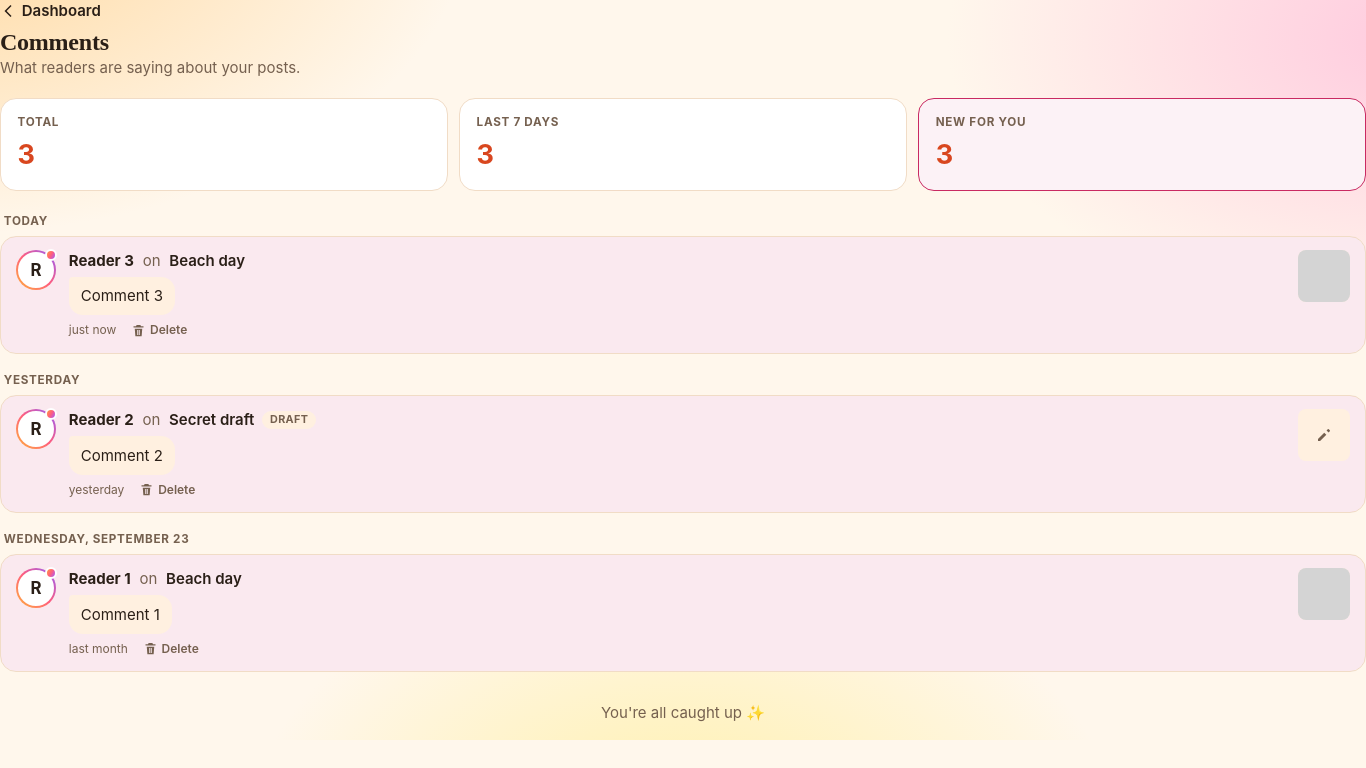
Test case: AdminCommentsPage › deletes a comment after confirming
The width and height of the screenshot is (1366, 768).
Expected: the text "Comment 3" is shown, [69,277,175,316]
Click the button named "Delete comment by Reader 3".
click(159, 330)  # box [131,321,187,339]
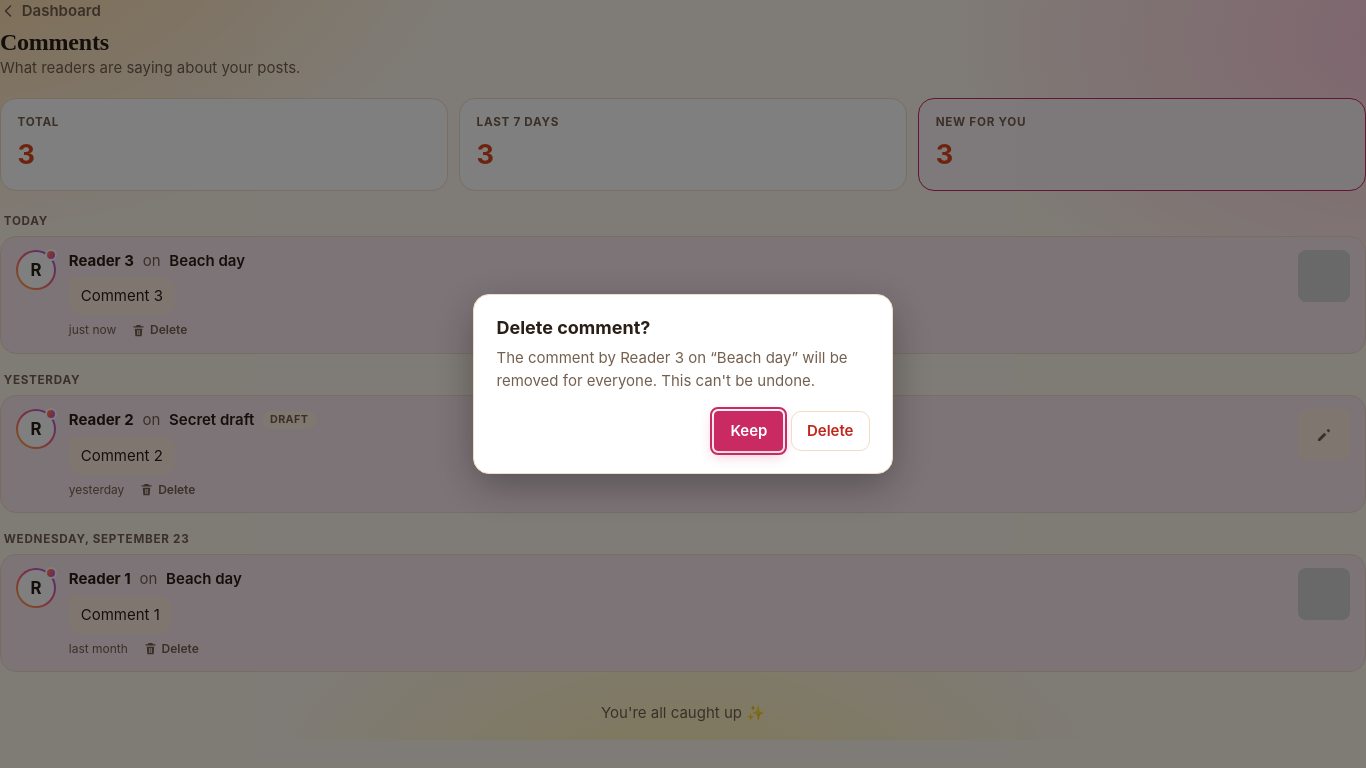
Click the button "Delete".
click(830, 431)  # box [791,411,870,451]
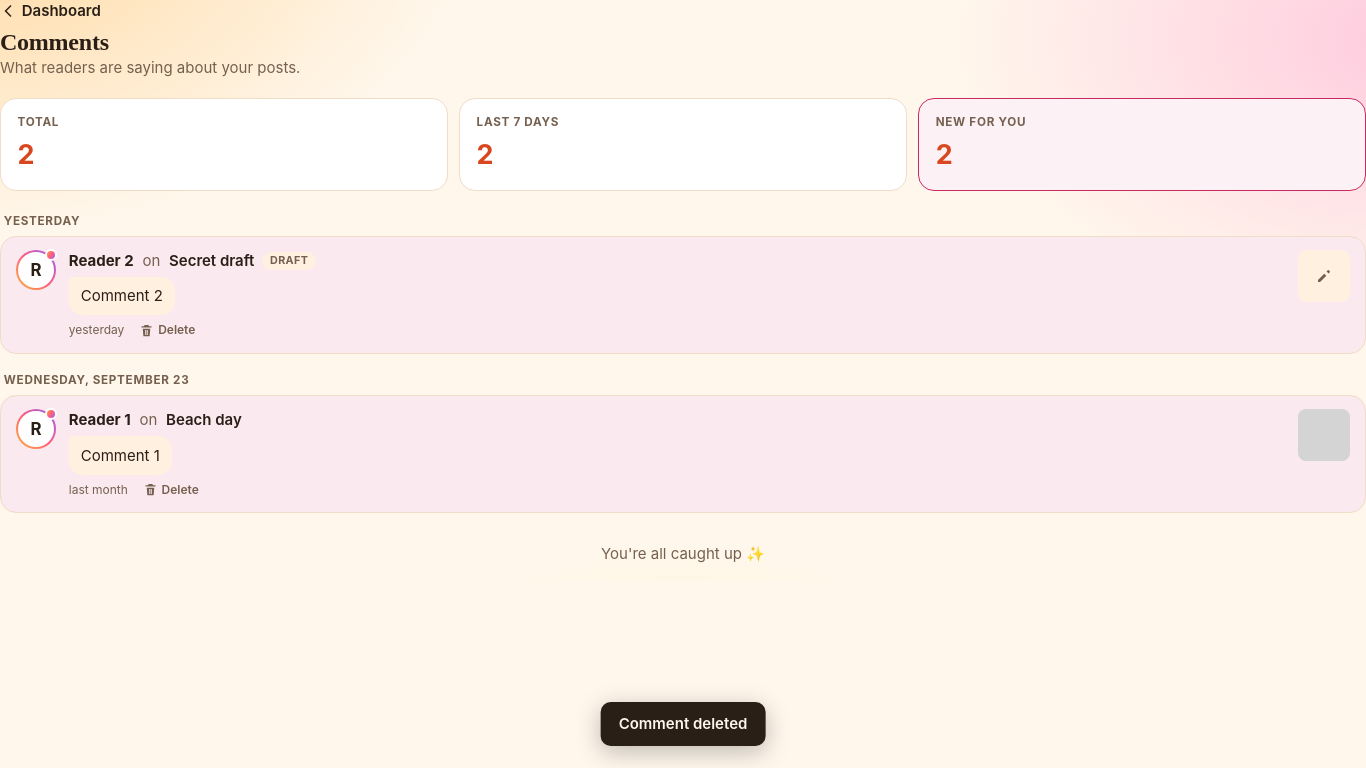
Result: the text "Comment 3" is gone
